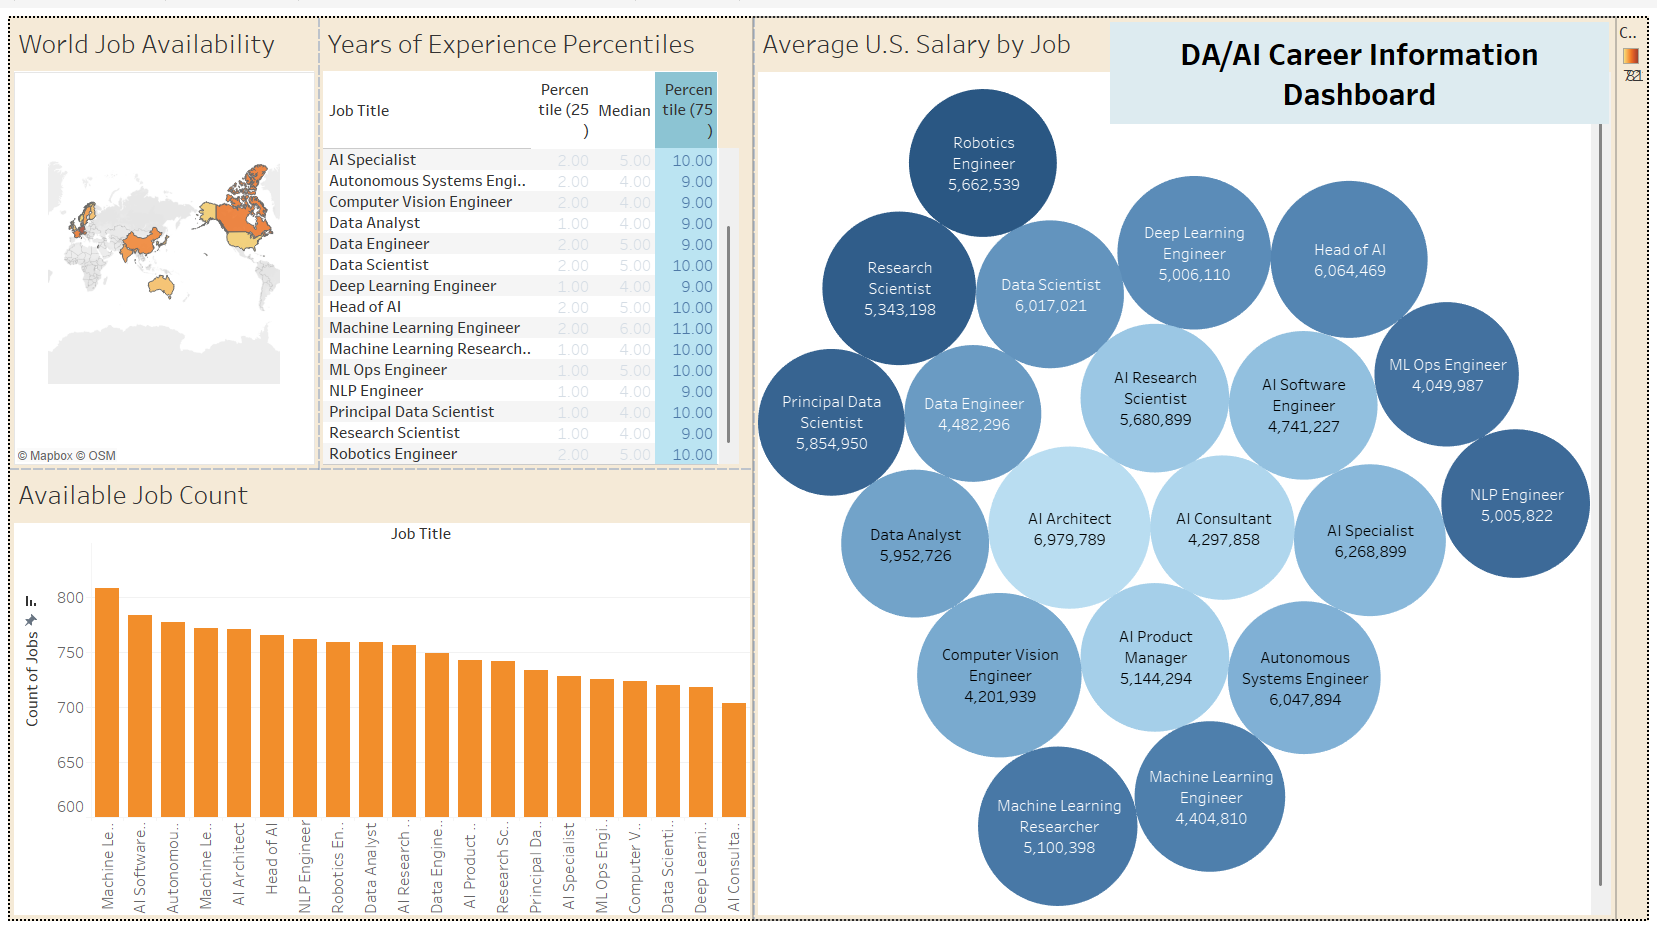

What the dashboard file says about the page in this screenshot:
{"tool":"tableau","page":{"name":"Data/AI Career Info Dashboard","canvas":[1000,1000],"units":"permille","ordinal":0},"visuals":[{"type":"worksheet","title":"World Job Availability","mark":"Automatic","box":[6,10.9,186.5,489.1]},{"type":"worksheet","title":"Years of Experience Percentiles","mark":"Automatic","rows":["job_title"],"box":[192.5,10.9,262.5,489.1]},{"type":"worksheet","title":"Average U.S. Salary by Job","mark":"Circle","box":[455,10.9,519.6,978.3]},{"type":"legend","title":"World Job Availability","param":"[federated.11jynth0ef9nxn10t1pge09lvam3].[cnt:job_title:qk]","box":[974.6,10.9,19.3,79.3]},{"type":"text","box":[669.9,15.2,301.2,110.8]},{"type":"worksheet","title":"Available Job Count","mark":"Automatic","rows":["Calculation_460211610219446272"],"cols":["job_title"],"box":[6,500,449,489.1]}]}

Visuals, with their boxes on the dashboard's canvas, which has no fixed pixel size, in thousandths of its width and height (x1, y1, x2, y2). These are canvas units, not pixel positions in the 1657x926 screenshot, which may show the page scaled, cropped or inside an application window:
"World Job Availability" worksheet: <box>6,11,192,500</box>
"Years of Experience Percentiles" worksheet: <box>192,11,455,500</box>
"Average U.S. Salary by Job" worksheet (Circle marks): <box>455,11,975,989</box>
"World Job Availability" legend: <box>975,11,994,90</box>
text: <box>670,15,971,126</box>
"Available Job Count" worksheet: <box>6,500,455,989</box>
